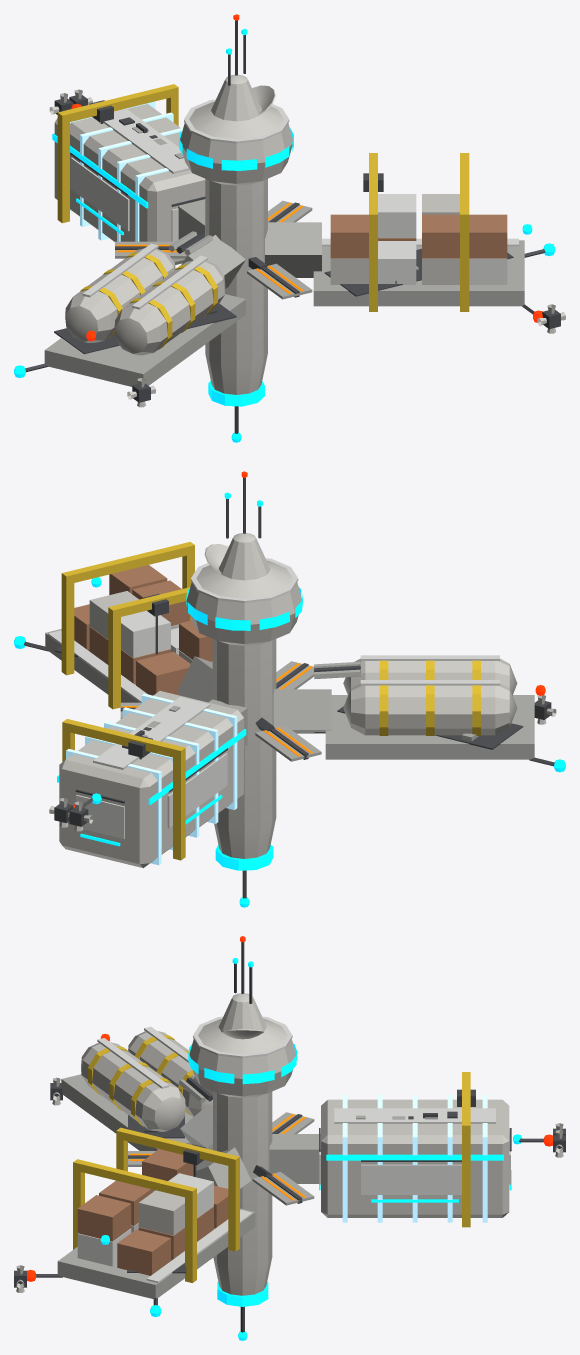
File: warehouse.glb
3 renders of one model, top to bottom at view 1: azimuth 30°, elevation 25°; view 2: azimuth 150°, elevation 25°; view 3: azimuth 270°, elevation 25°, orthographic. The views are drawn at different scales.
Parts seen in each view (by area): view 1: warehouse; view 2: warehouse; view 3: warehouse.
Boxes of the visible parts, x1,y1,x2,y2 form: warehouse: (14, 14, 565, 442); warehouse: (14, 471, 565, 907); warehouse: (14, 936, 565, 1340).
Bounding box in the file's own units: 1.66 × 1.26 × 1.55.
